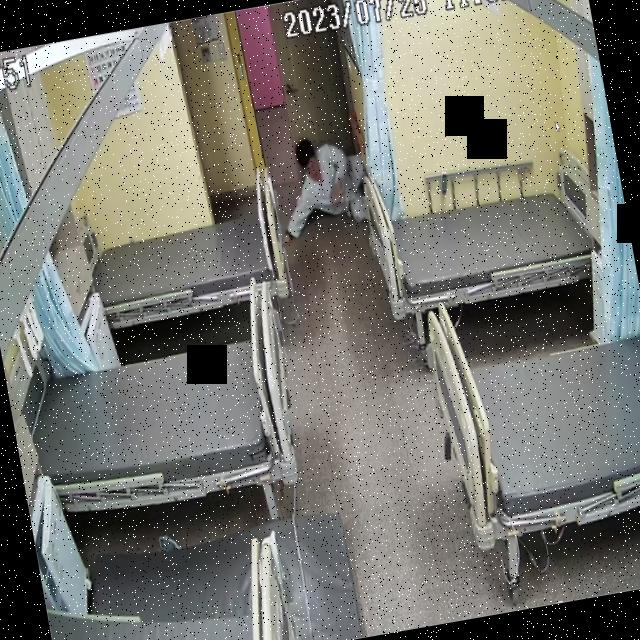bed: (419, 268, 640, 547), (19, 325, 304, 521), (362, 163, 614, 321), (86, 199, 289, 328)
fall: (265, 130, 377, 244)
patient: (264, 126, 376, 242)
